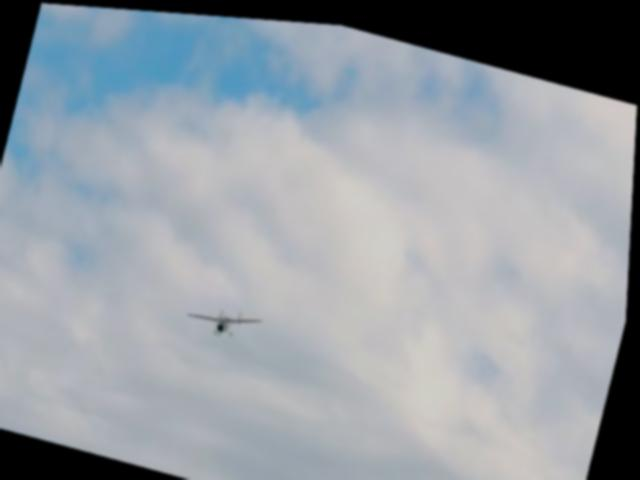uav: (185, 290, 269, 342)
